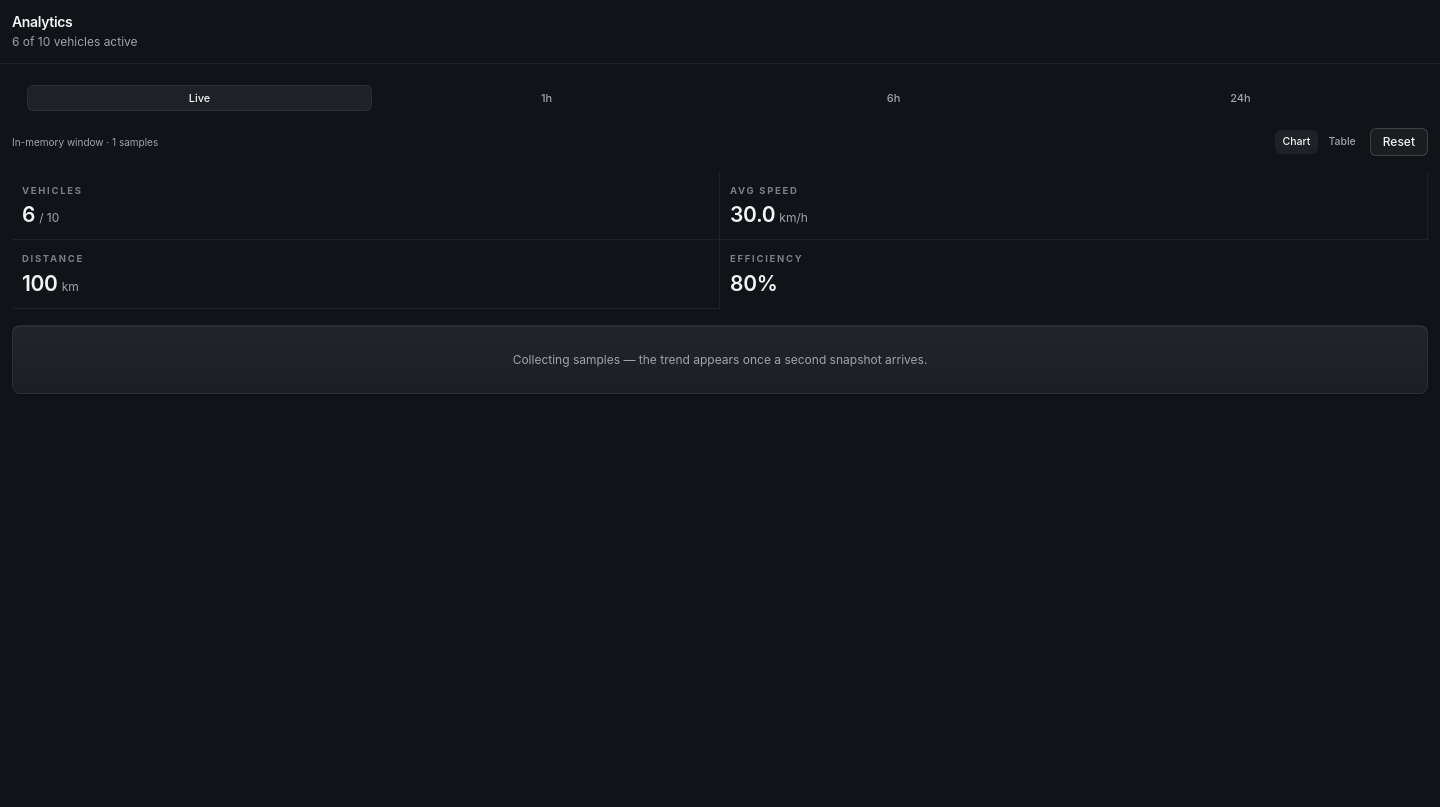
Scenario: AnalyticsPanel — persisted history › queries the stored series when a range is picked
Click the tab "6h". click: (894, 98)
box: [721,84,1066,111]
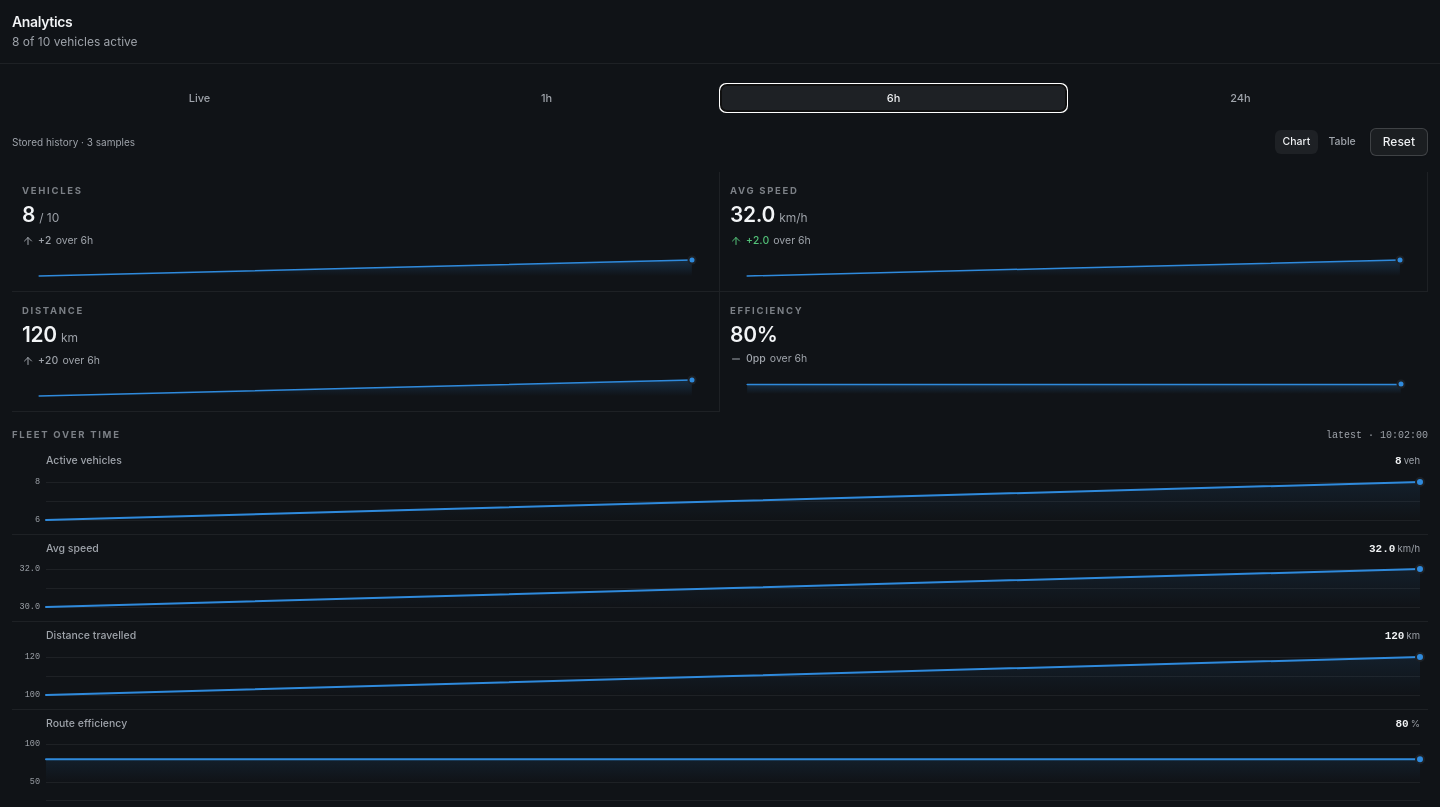
Expected: the text "Stored history · 3 samples" is shown, [12,134,135,150]
Expected: the element with test id "facet-speed" is shown, [12,534,1428,622]
